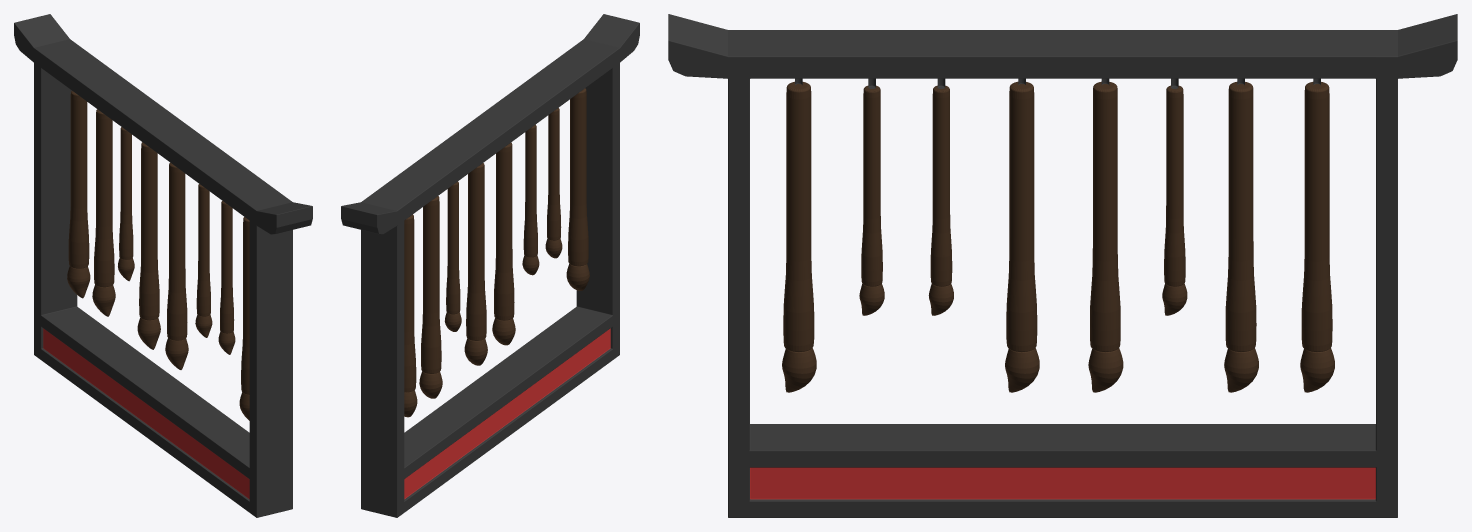
File: Brush_Holder.fbx
3 views of the same model, side by side, from view 1: azimuth 30°, elevation 25°; view 2: azimuth 150°, elevation 25°; view 3: azimuth 270°, elevation 25° (orthographic). The views are drawn at different scales.
Parts seen in each view (by area): view 1: Cube.005; view 2: Cube.005; view 3: Cube.005.
Part boxes in pixels (x1,y1,x2,y2): Cube.005: (14,14,312,517); Cube.005: (341,14,639,517); Cube.005: (668,14,1457,517).
Size of the model in its own units: 4.4 by 36.67 by 54.93.
